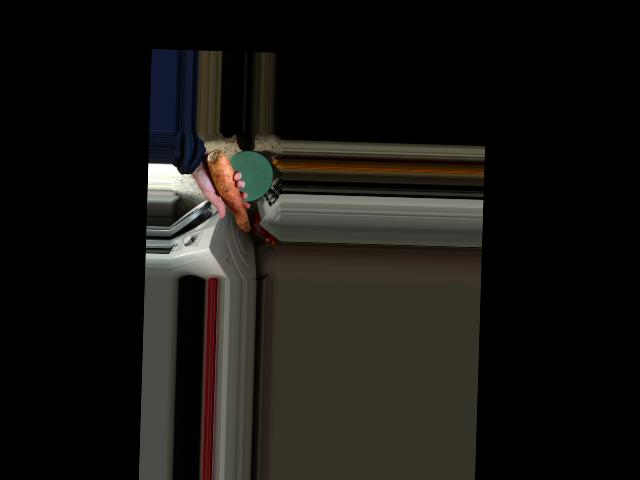sweet_potato: (201, 148, 256, 238)
